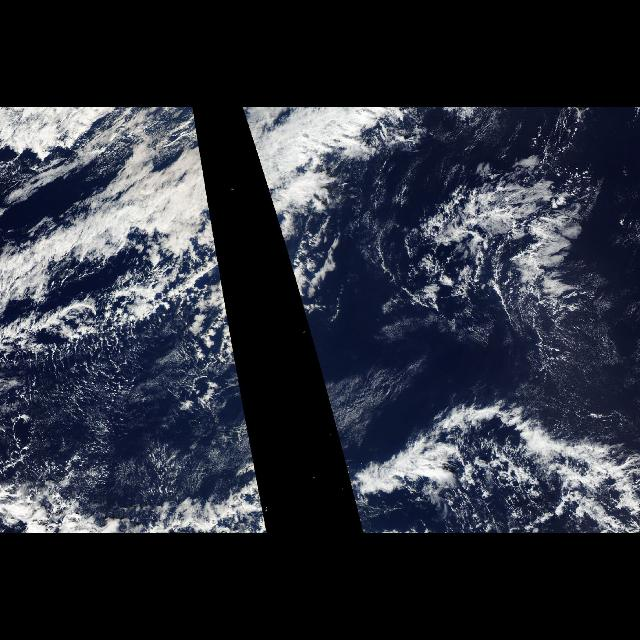Sugar: (38, 352, 195, 482), (310, 336, 432, 446), (518, 334, 640, 428)
